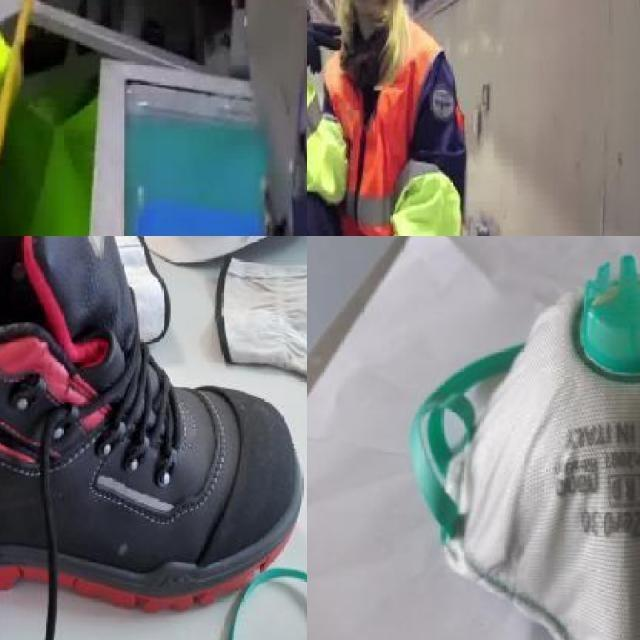apron: (307, 13, 346, 99)
